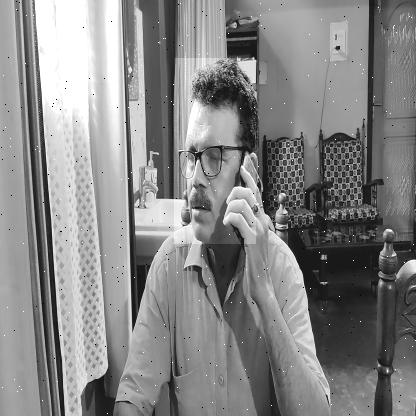Distracted: (174, 58, 256, 244)
